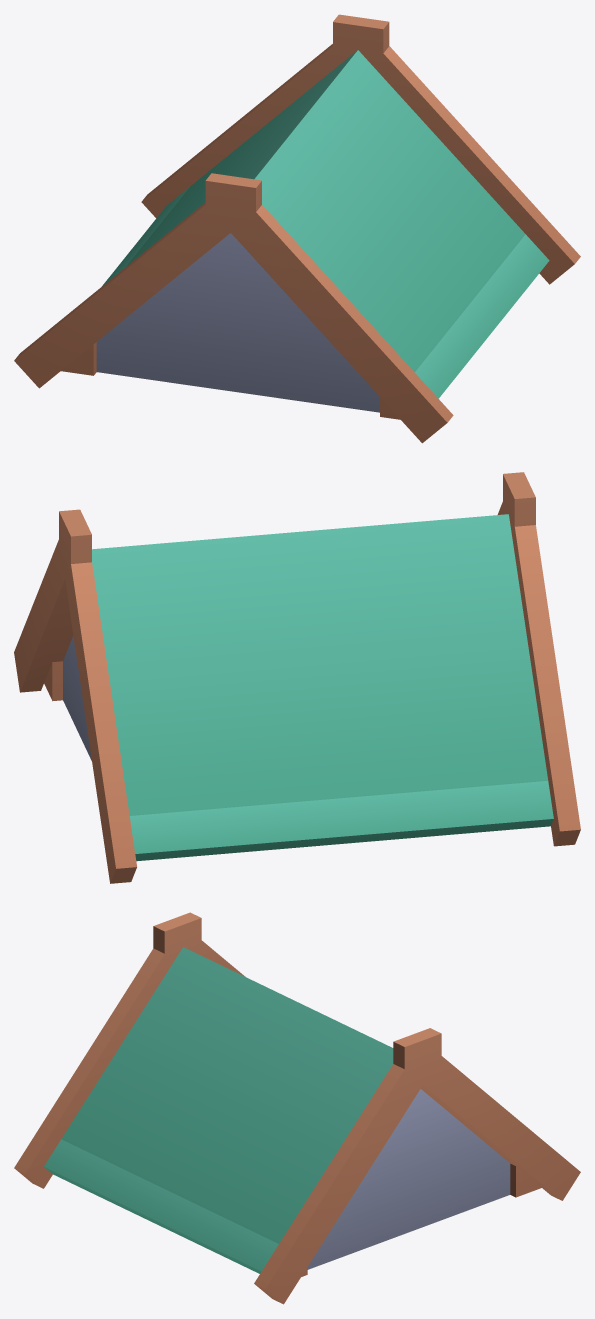
File: roof-gable-detail.005_lev1.glb
The picture shows the model from 3 angles, top to bottom: view 1: azimuth 30°, elevation 25°; view 2: azimuth 150°, elevation 25°; view 3: azimuth 270°, elevation 25°; orthographic projection. The views are drawn at different scales.
Visible parts, largest first — view 1: roof-gable-detail.005_lev1; view 2: roof-gable-detail.005_lev1; view 3: roof-gable-detail.005_lev1.
Boxes of the visible parts, x1,y1,x2,y2 form: roof-gable-detail.005_lev1: (14, 14, 580, 443); roof-gable-detail.005_lev1: (14, 472, 580, 883); roof-gable-detail.005_lev1: (14, 912, 580, 1304).
Size of the model in its own units: 7.06 by 2.94 by 7.1.
1 material, 1 textured.
